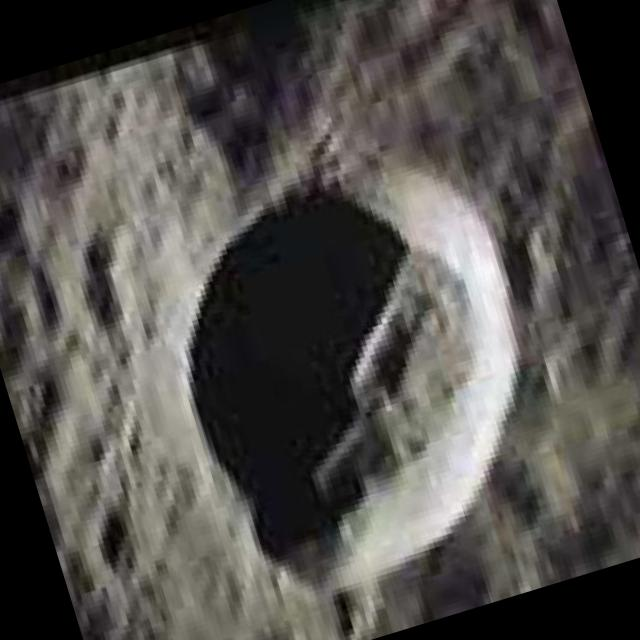crater: (135, 125, 592, 632)
